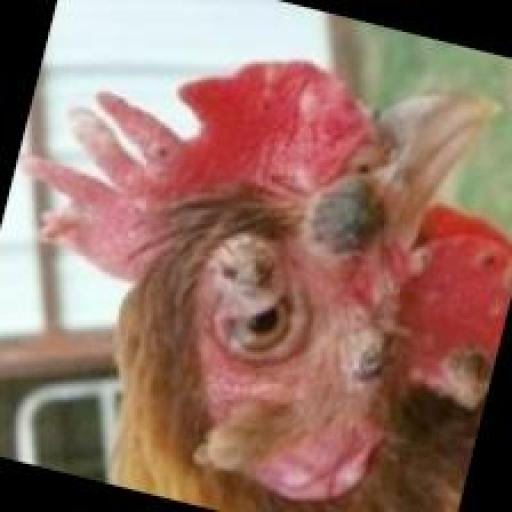disease: (324, 263, 503, 443), (289, 118, 427, 288), (18, 76, 122, 269), (188, 218, 307, 336)
